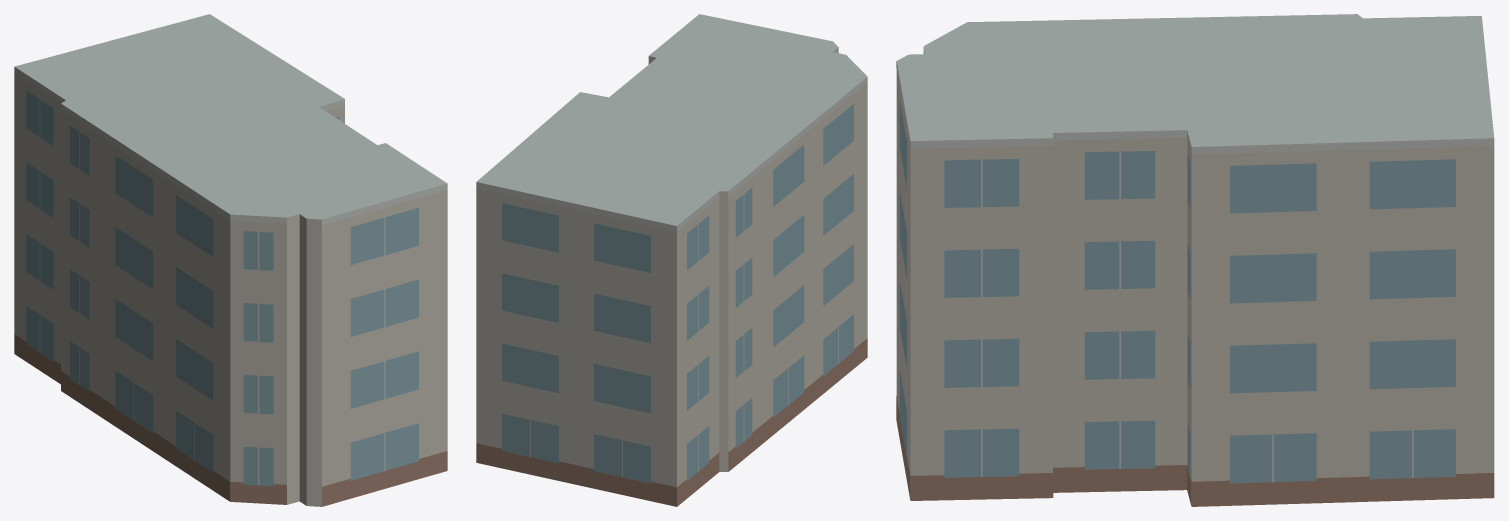
The model's file is survey-upis-32631471.glb.
3 renders of one model, left to right at view 1: azimuth 30°, elevation 25°; view 2: azimuth 150°, elevation 25°; view 3: azimuth 270°, elevation 25°, orthographic. The views are drawn at different scales.
Parts seen in each view (by area): view 1: survey-upis-32631471.tmp; view 2: survey-upis-32631471.tmp; view 3: survey-upis-32631471.tmp.
Boxes of the visible parts, x1,y1,x2,y2 form: survey-upis-32631471.tmp: (14,14,447,506); survey-upis-32631471.tmp: (476,14,867,506); survey-upis-32631471.tmp: (896,14,1494,506).
Bounding box in the file's own units: 9.29 × 11.7 × 17.62.
